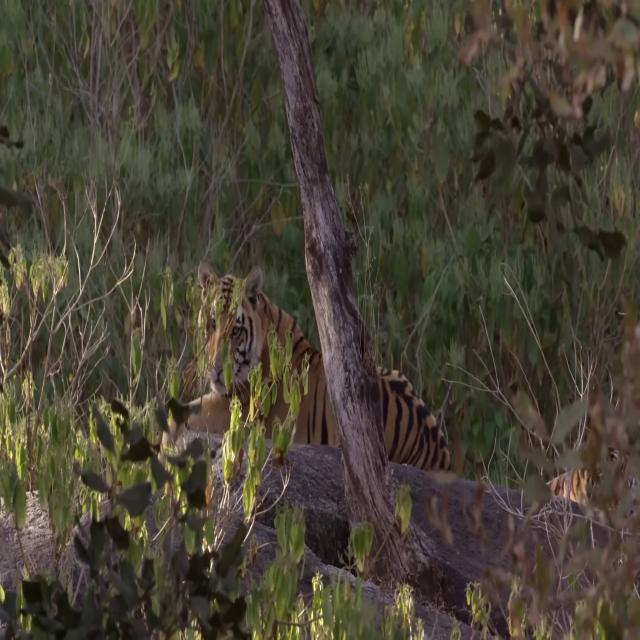tiger: (158, 259, 451, 475)
